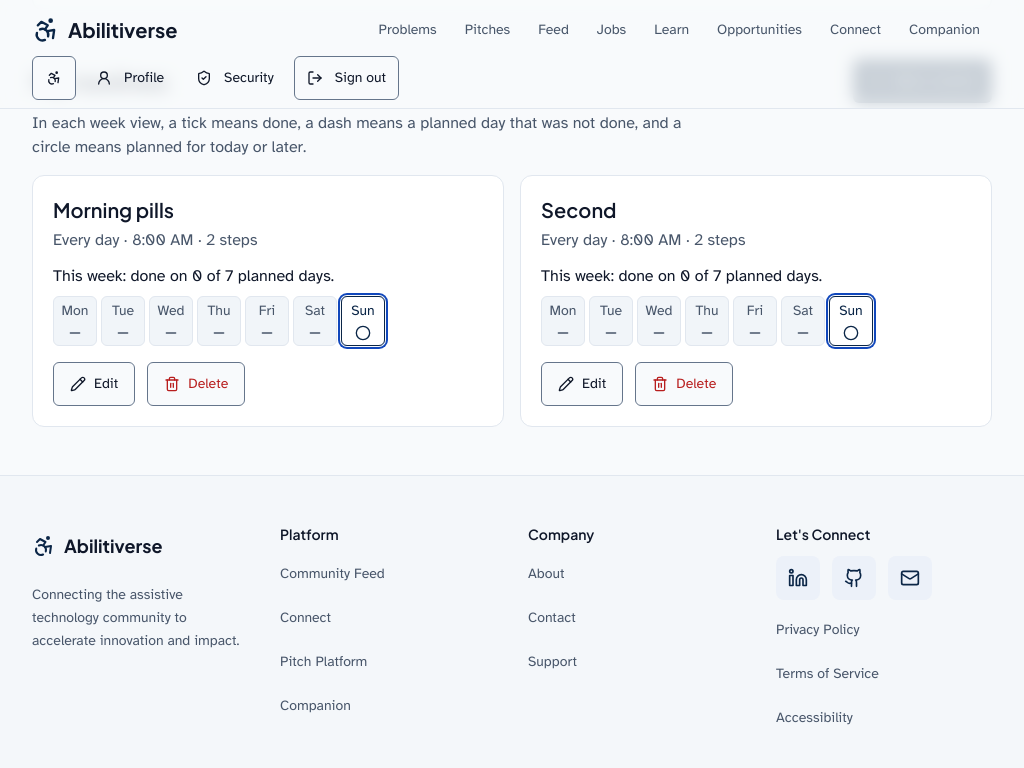
Test case: Companion page › confirms before deleting and then moves focus to My routines
This screenshot has width=1024, height=768.
(page scrolled)
Click the button named "Delete Morning pills" at (196, 384), box [147,362,245,406]
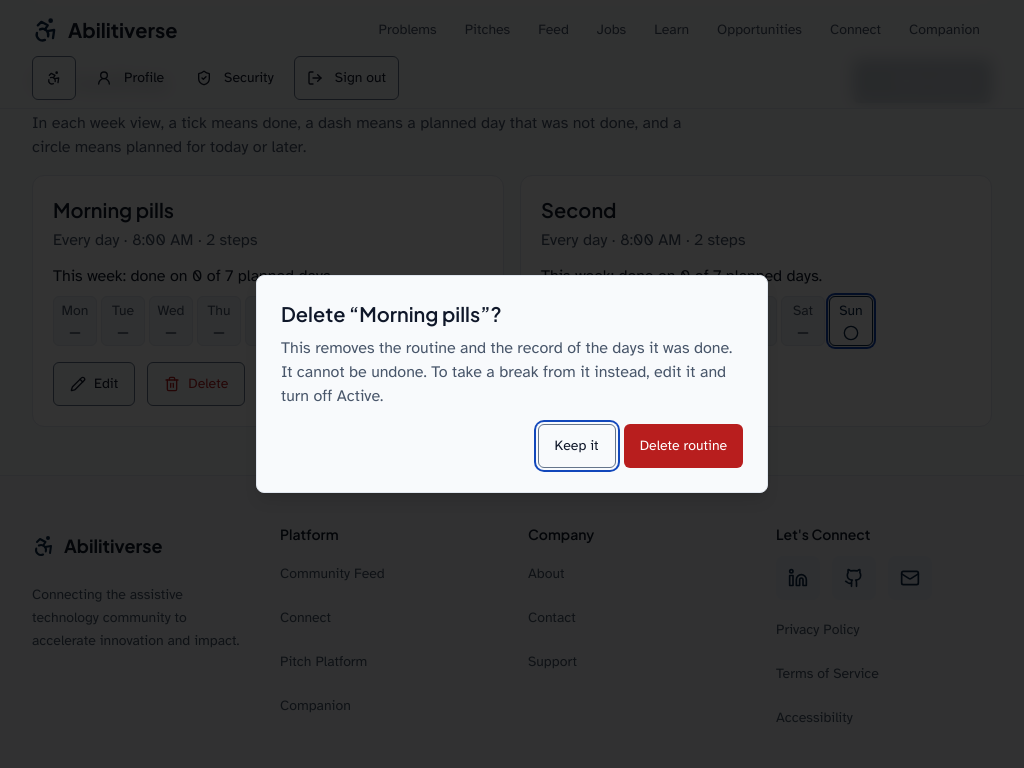
Now the dialog shows "Delete “Morning pills”?", box [256,275,768,493]
Click the button "Delete routine" at (683, 446), box [624,424,743,468]
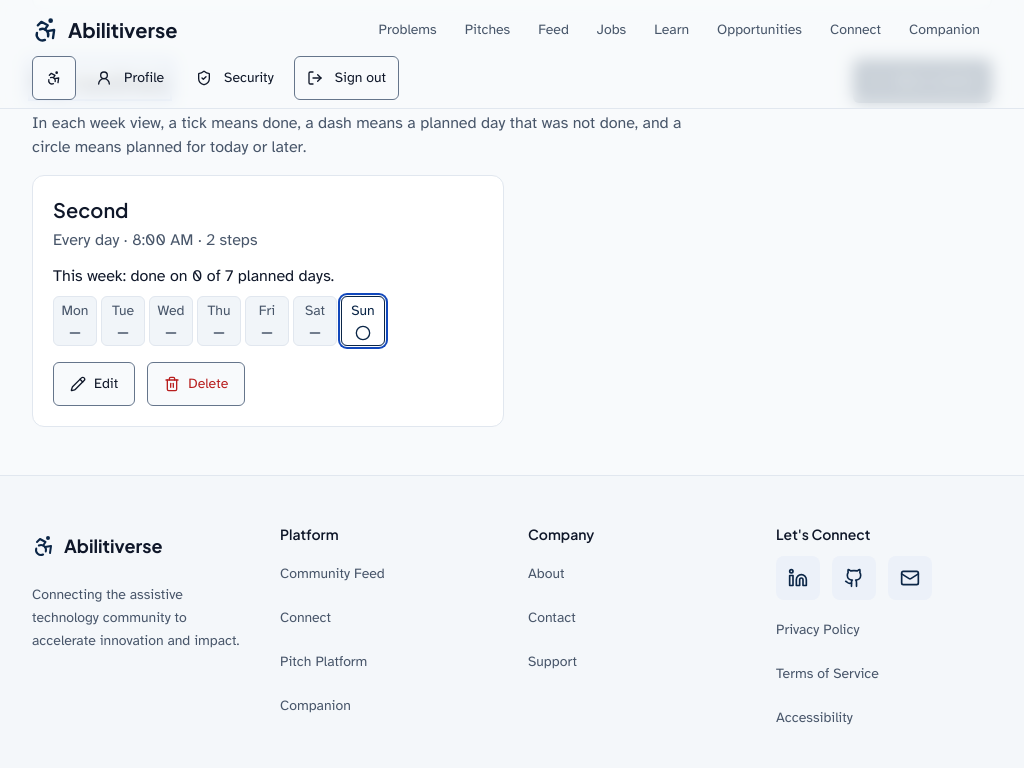
Expected: the button "Delete Morning pills" is not shown
Now the dialog is gone
